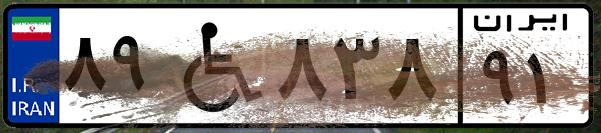1: (525, 38, 570, 115)
3: (330, 28, 385, 110)
8: (270, 28, 330, 110), (385, 28, 445, 110), (57, 26, 110, 100)
9: (475, 38, 525, 113), (110, 28, 158, 98)
ژ (معلولین و جانبازان): (158, 12, 270, 120)
